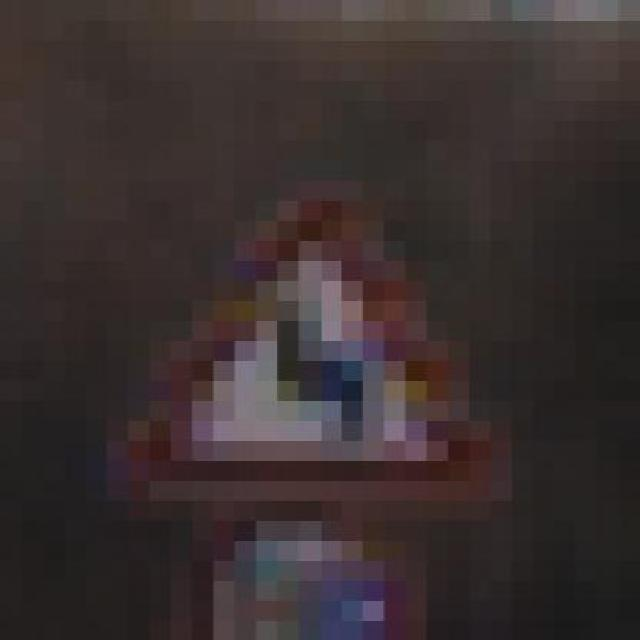Left Zig Zag Traffic: (106, 180, 512, 520)
